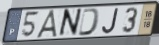3: (121, 6, 139, 34)
5: (20, 11, 41, 40)
A: (35, 9, 60, 39)
D: (77, 8, 101, 38)
J: (101, 7, 120, 35)
N: (57, 7, 84, 39)
